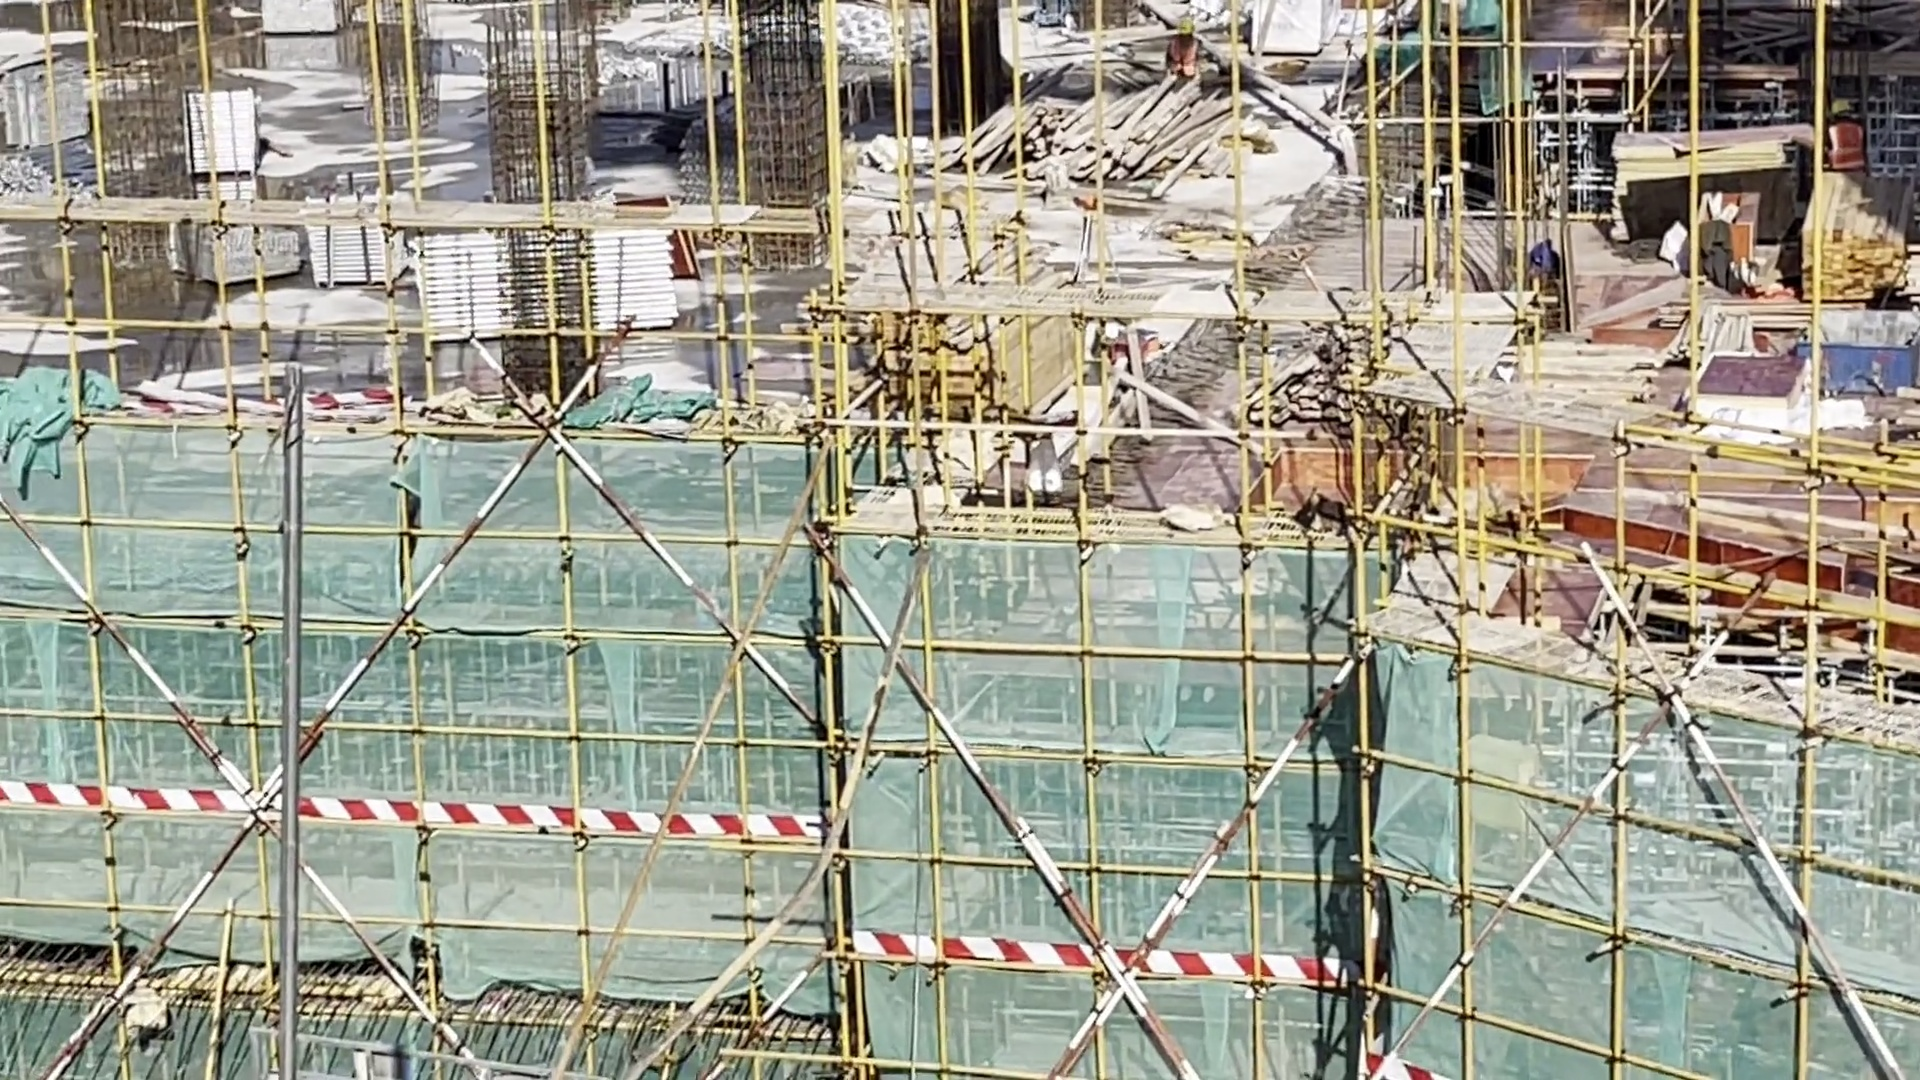helmet: (1092, 320, 1127, 347)
hopper: (1806, 296, 1920, 391)
person: (1165, 12, 1203, 73)
scaffold: (413, 203, 675, 332), (299, 173, 406, 281), (180, 81, 257, 174)
vest: (1173, 41, 1195, 70)
wood: (945, 86, 1211, 204), (854, 308, 1093, 422)
